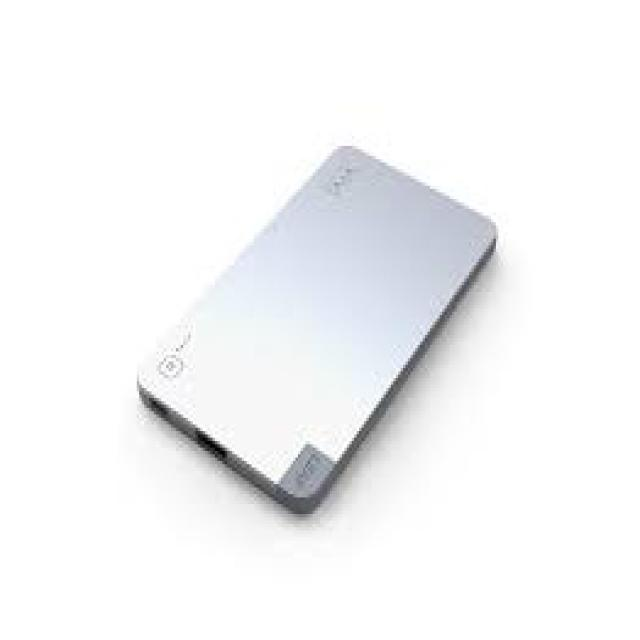portable-charger: (130, 143, 498, 520)
